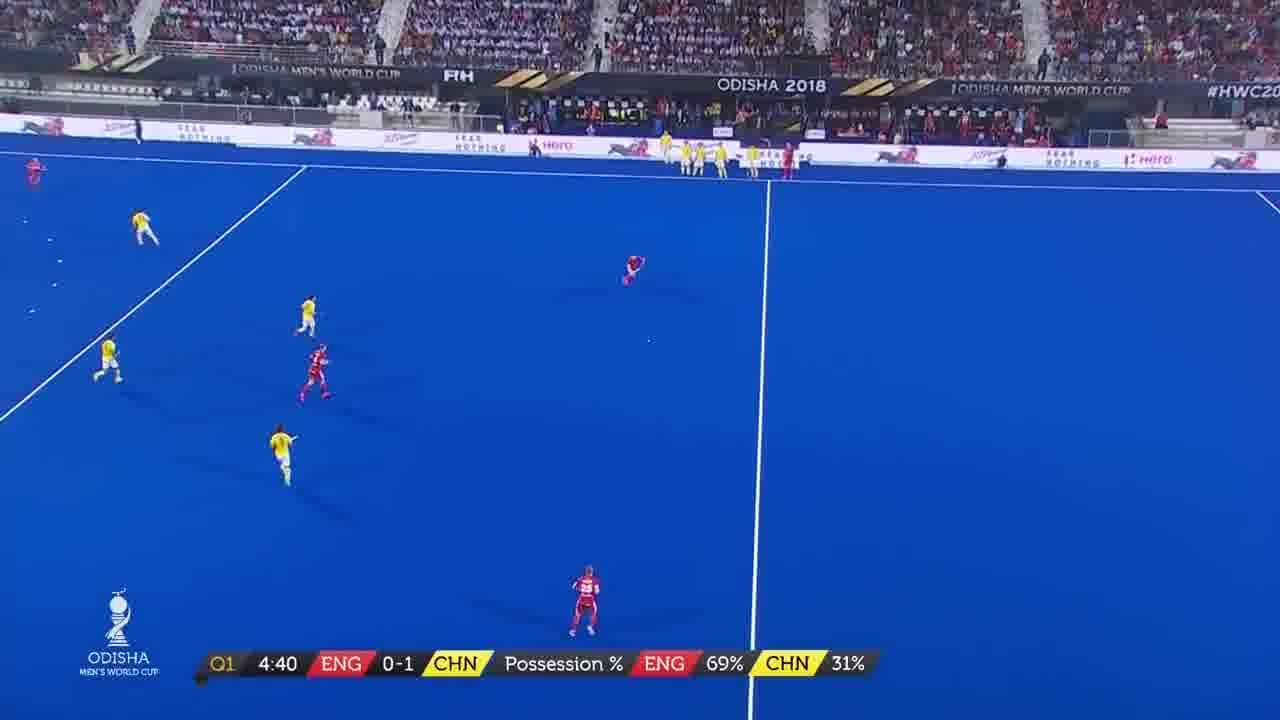ball: (643, 338, 656, 346)
